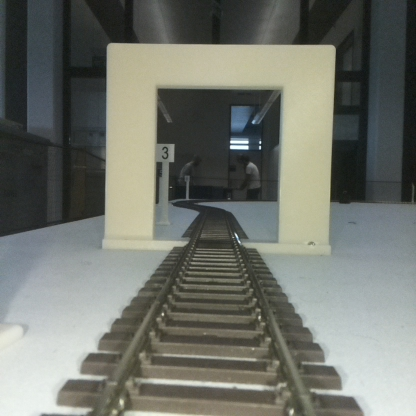white-info-3: (156, 144, 174, 225)
